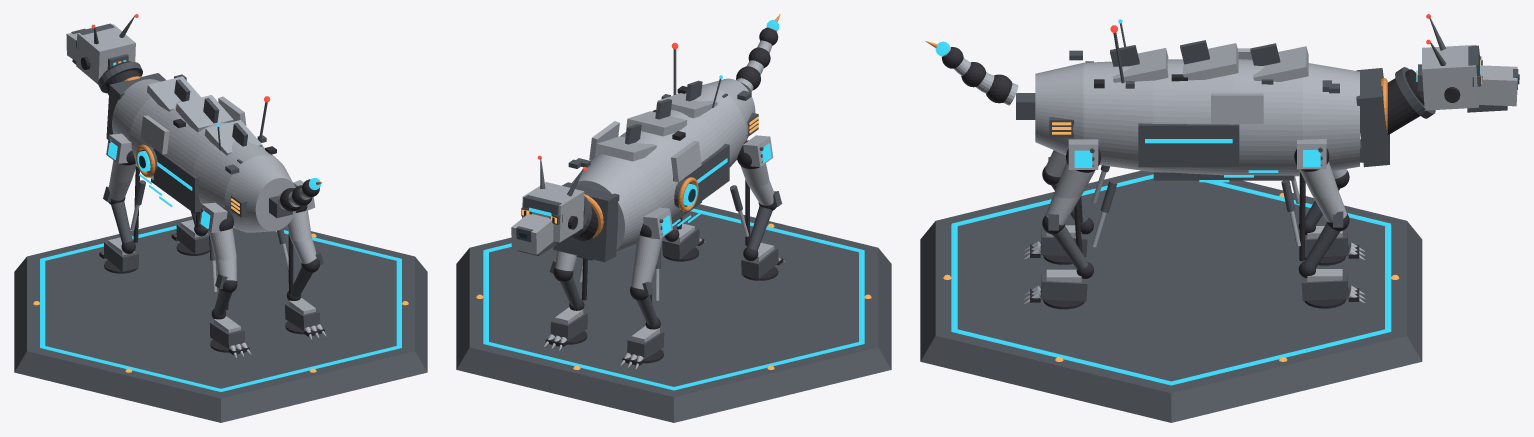
Rendered from steelhound.glb.
3 renders of one model, left to right at view 1: azimuth 30°, elevation 25°; view 2: azimuth 150°, elevation 25°; view 3: azimuth 270°, elevation 25°, orthographic. The views are drawn at different scales.
Parts seen in each view (by area): view 1: dock_hex, torso, dock_ring, skull, flank_plate_-1, upper_leg_2, spine_plate_1, upper_leg_3, spine_plate_0, spine_plate_2, flank_armor_-1, upper_leg_0 (+9 smaller); view 2: dock_hex, torso, dock_ring, chest_plate, skull, flank_plate_-1, snout, upper_leg_0, spine_plate_0, spine_plate_1, flank_armor_-1, upper_leg_2 (+10 smaller); view 3: dock_hex, torso, dock_ring, flank_plate_1, skull, chest_plate, flank_armor_1, snout, upper_leg_3, upper_leg_1, spine_plate_1, neck (+13 smaller).
Part boxes in pixels (x1,y1,x2,y2): dock_hex: [14, 216, 427, 422]; torso: [112, 79, 295, 232]; dock_ring: [40, 225, 401, 391]; skull: [76, 24, 135, 84]; flank_plate_-1: [153, 148, 201, 212]; upper_leg_2: [208, 228, 236, 280]; spine_plate_1: [176, 95, 233, 132]; upper_leg_3: [287, 210, 316, 263]; spine_plate_0: [147, 76, 200, 111]; spine_plate_2: [204, 120, 262, 155]; flank_armor_-1: [140, 115, 169, 154]; upper_leg_0: [108, 160, 135, 200]; dock_hex: [456, 204, 891, 422]; torso: [572, 78, 755, 253]; dock_ring: [483, 208, 864, 390]; chest_plate: [553, 182, 619, 262]; skull: [522, 182, 584, 242]; flank_plate_-1: [680, 143, 729, 212]; snout: [511, 214, 553, 254]; upper_leg_0: [631, 235, 662, 289]; spine_plate_0: [596, 136, 656, 161]; spine_plate_1: [626, 111, 687, 136]; flank_armor_-1: [671, 141, 701, 181]; upper_leg_2: [740, 163, 774, 205]; dock_hex: [920, 170, 1422, 422]; torso: [1035, 59, 1359, 176]; dock_ring: [951, 174, 1391, 385]; flank_plate_1: [1138, 123, 1239, 167]; skull: [1422, 45, 1478, 110]; chest_plate: [1356, 68, 1389, 167]; flank_armor_1: [1211, 93, 1263, 123]; snout: [1478, 65, 1517, 106]; upper_leg_3: [1045, 162, 1095, 225]; upper_leg_1: [1299, 161, 1346, 222]; spine_plate_1: [1183, 43, 1238, 80]; neck: [1387, 69, 1424, 134].
Size of the model in its own units: 6.6 by 3.63 by 6.82.
